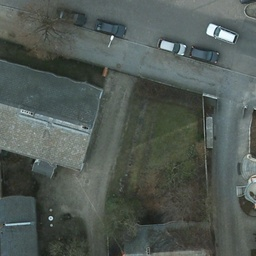car: (206, 18, 241, 44), (190, 42, 219, 67), (95, 18, 126, 39), (155, 38, 187, 56), (59, 8, 87, 24)
